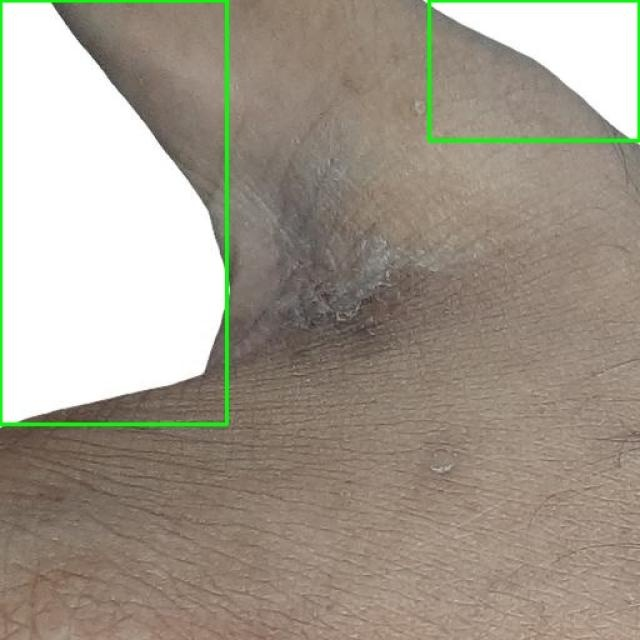Scabies: (0, 0, 226, 424), (429, 0, 639, 140)
